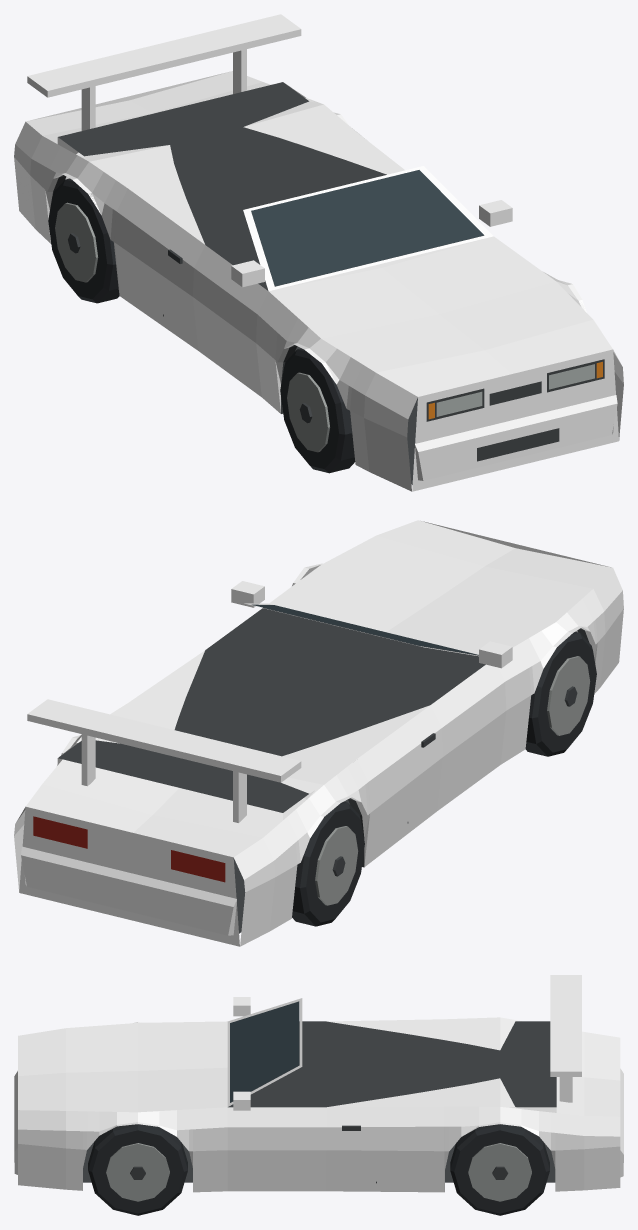
File: ashcombe_plover_corrida.glb
3 renders of one model, top to bottom at view 1: azimuth 30°, elevation 25°; view 2: azimuth 150°, elevation 25°; view 3: azimuth 270°, elevation 25°, orthographic. The views are drawn at different scales.
Visible parts, largest first — view 1: ashcombe_plover_corrida; view 2: ashcombe_plover_corrida; view 3: ashcombe_plover_corrida.
Boxes of the visible parts, x1=… form: ashcombe_plover_corrida: x1=14, y1=14, x2=623, y2=491; ashcombe_plover_corrida: x1=14, y1=520, x2=623, y2=946; ashcombe_plover_corrida: x1=14, y1=975, x2=623, y2=1215.
Bounding box in the file's own units: 1.68 × 1.1 × 4.21.
Materials: 8 (1 with a texture image).
